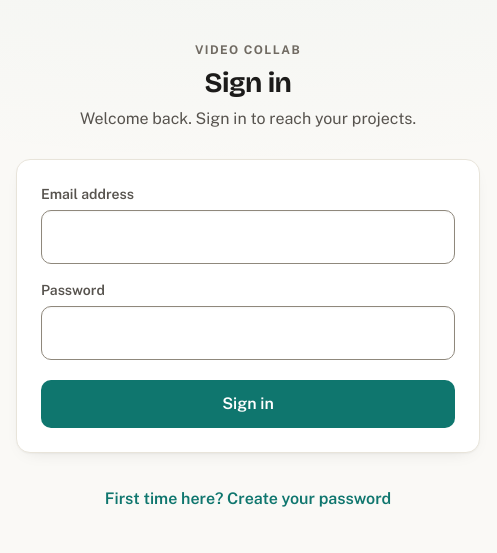
SignInPage › signup error weak_password shows its message
The image size is (497, 553).
Step 1. Click the button "First time here? Create your password" → (248, 498), box [105, 476, 391, 520]
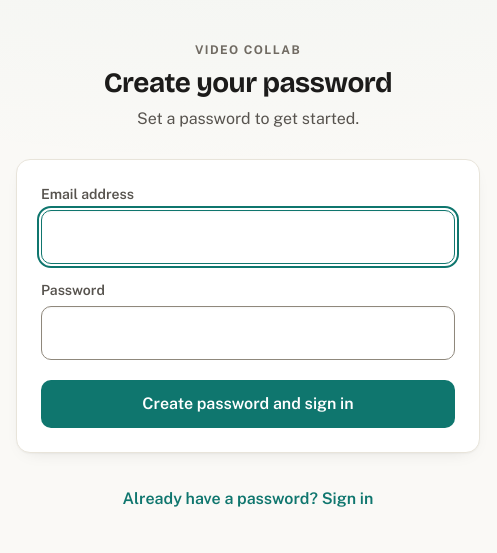
Step 2. Type "a@b.com" into the field labelled "Email address" → (248, 236), box [41, 210, 455, 264]
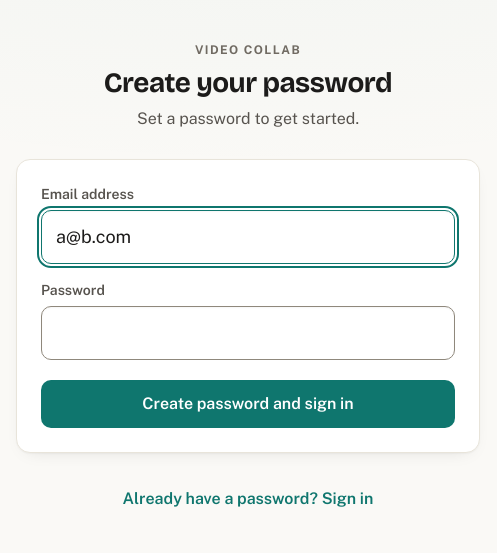
Step 3. Type "secret123" into the password field labelled "Password" → (248, 332), box [41, 306, 455, 360]
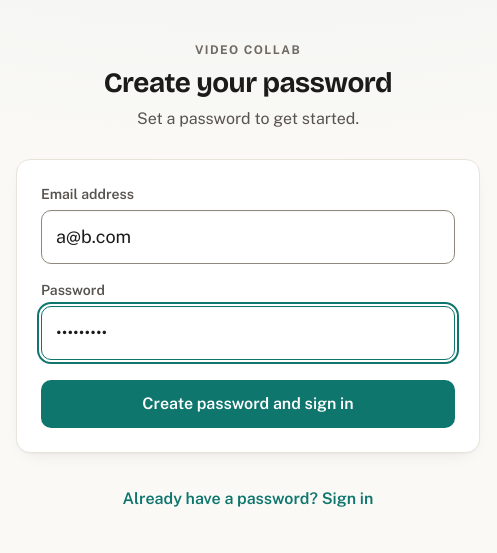
Step 4. Click the button "Create password and sign in" → (248, 404), box [41, 380, 455, 428]
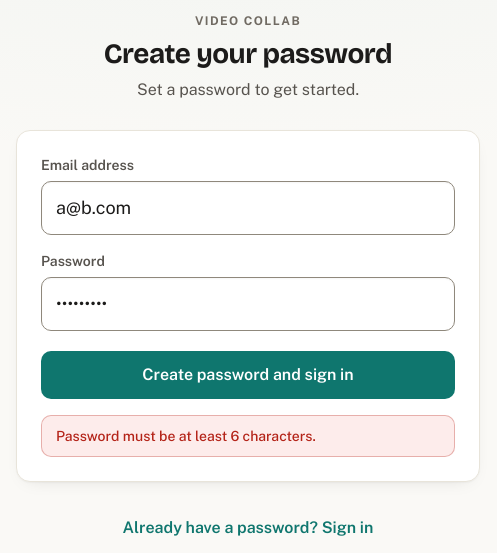
expect the text "Password must be at least 6 characters." is shown: met, box [41, 414, 455, 456]
